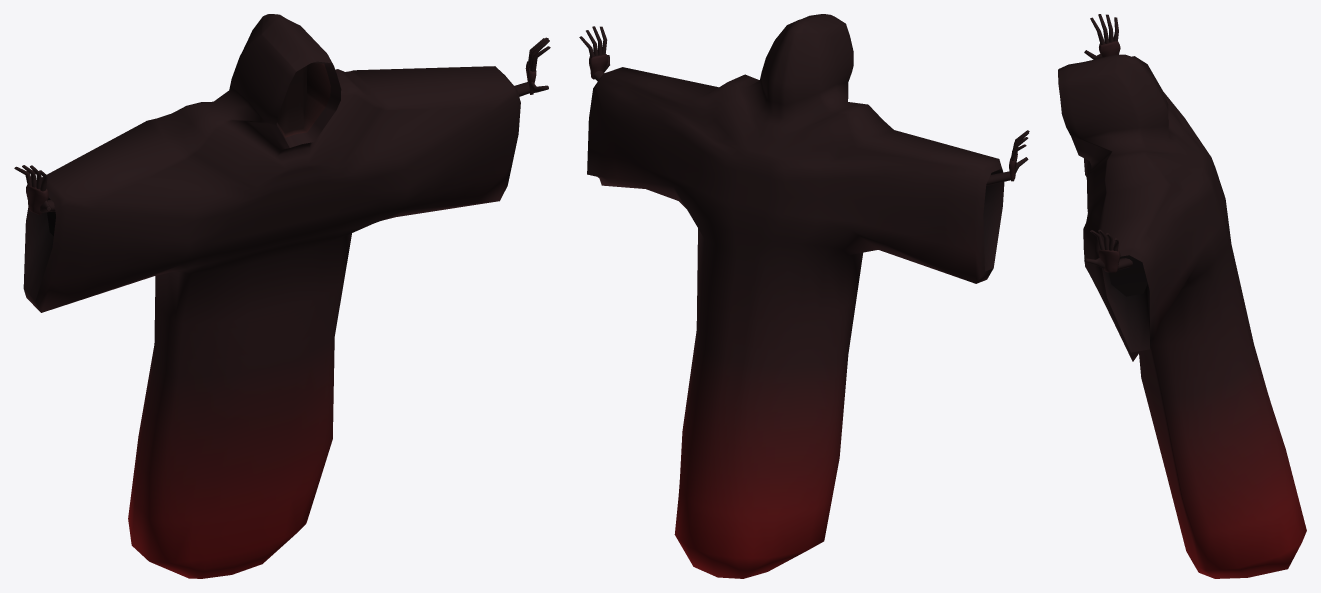
File: ghost.fbx
3 renders of one model, left to right at view 1: azimuth 30°, elevation 25°; view 2: azimuth 150°, elevation 25°; view 3: azimuth 270°, elevation 25°, orthographic. The views are drawn at different scales.
Visible parts, largest first — view 1: ghost; view 2: ghost; view 3: ghost.
Boxes of the visible parts, box(x1,y1,x2,y2) form: ghost: box(14, 14, 550, 578); ghost: box(579, 14, 1029, 578); ghost: box(1058, 14, 1306, 578).
Bounding box in the file's own units: 155 × 167 × 73.17.
